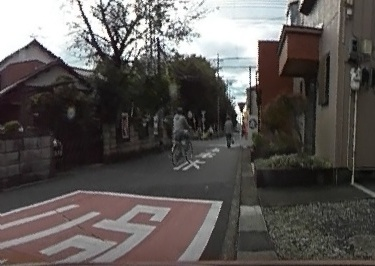person: (172, 105, 189, 156), (224, 114, 235, 147)
